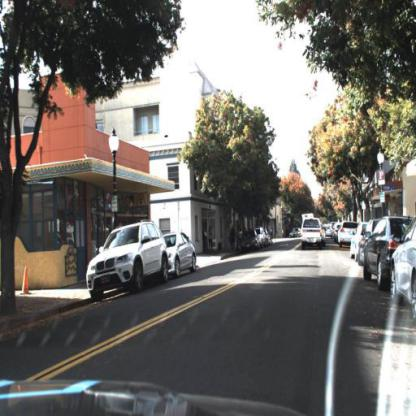car: (86, 222, 168, 306), (365, 218, 406, 292), (389, 222, 416, 321), (163, 233, 197, 277), (299, 217, 325, 251), (359, 223, 375, 270), (240, 228, 258, 254), (338, 221, 352, 250), (326, 224, 336, 242)
pedestrian: (228, 221, 236, 252), (201, 224, 209, 254), (231, 224, 239, 249), (209, 225, 215, 253)
